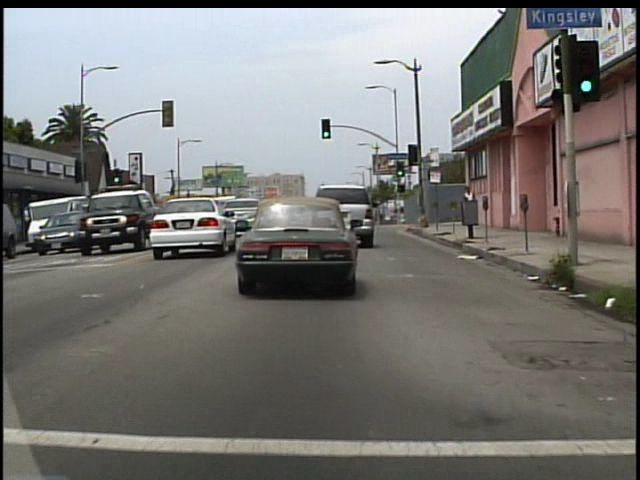person: (459, 184, 477, 230)
